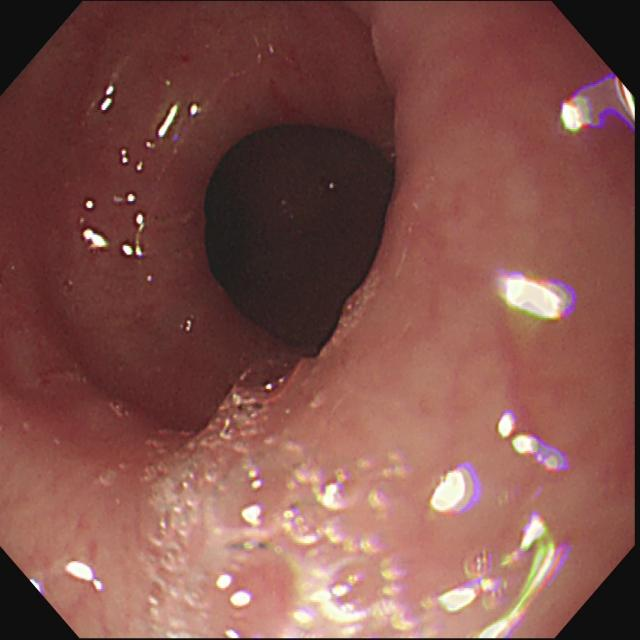E: (193, 115, 405, 358)
T: (144, 370, 414, 638), (321, 269, 376, 354)
U: (437, 515, 563, 638), (494, 412, 566, 475), (561, 75, 635, 133), (498, 270, 572, 325), (427, 464, 476, 517), (217, 574, 253, 610), (66, 561, 103, 593), (122, 212, 146, 258), (157, 102, 178, 139), (82, 226, 109, 252), (242, 504, 265, 528), (101, 83, 117, 113), (82, 197, 98, 211), (123, 191, 139, 205), (121, 146, 130, 167), (134, 158, 145, 173)
